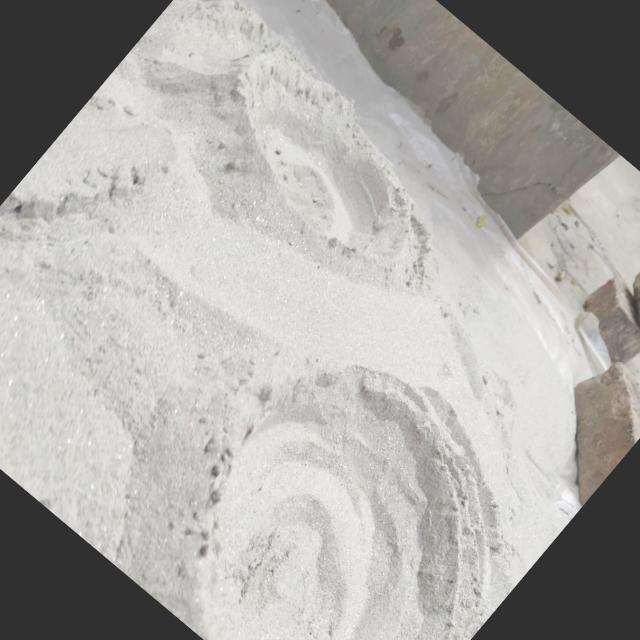C20: (213, 365, 510, 640), (246, 56, 390, 244)
